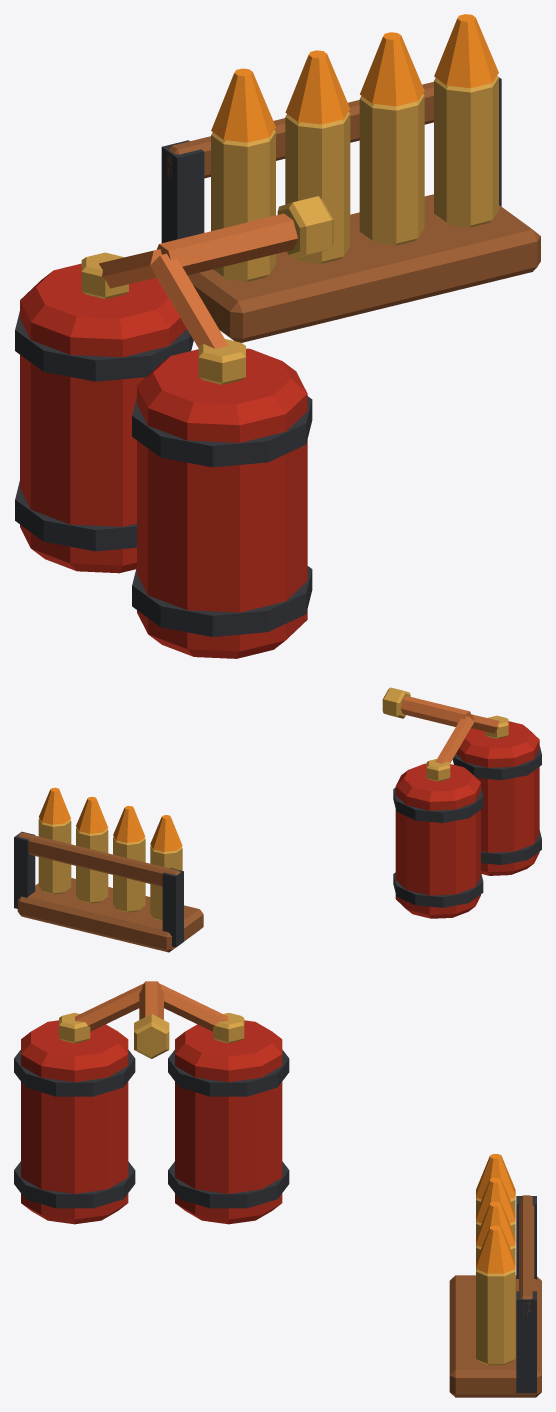
The model's file is CannonDressA2.obj.
The picture shows the model from 3 angles, top to bottom: view 1: azimuth 30°, elevation 25°; view 2: azimuth 150°, elevation 25°; view 3: azimuth 270°, elevation 25°; orthographic projection. The views are drawn at different scales.
Visible parts, largest first — view 1: CannonDressA2; view 2: CannonDressA2; view 3: CannonDressA2.
Part boxes in pixels (<box>): CannonDressA2: <box>15,14,540,658</box>; CannonDressA2: <box>14,687,541,952</box>; CannonDressA2: <box>14,981,541,1397</box>.
Size of the model in its own units: 1.02 by 0.5 by 1.03.
